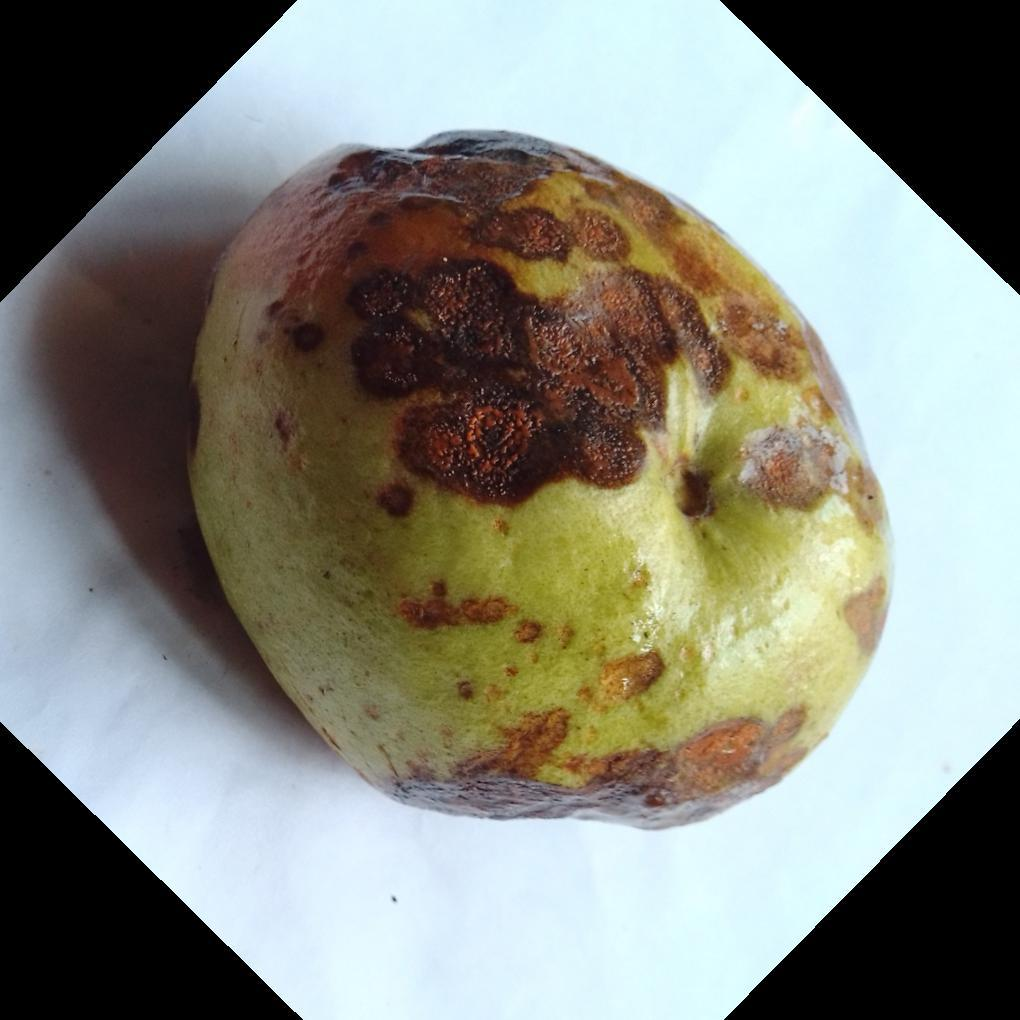FreshOrange: (187, 130, 893, 834)
